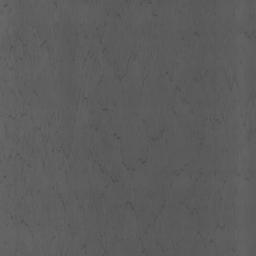Silk spot: (0, 0, 256, 256), (181, 0, 256, 48), (197, 224, 256, 256)
